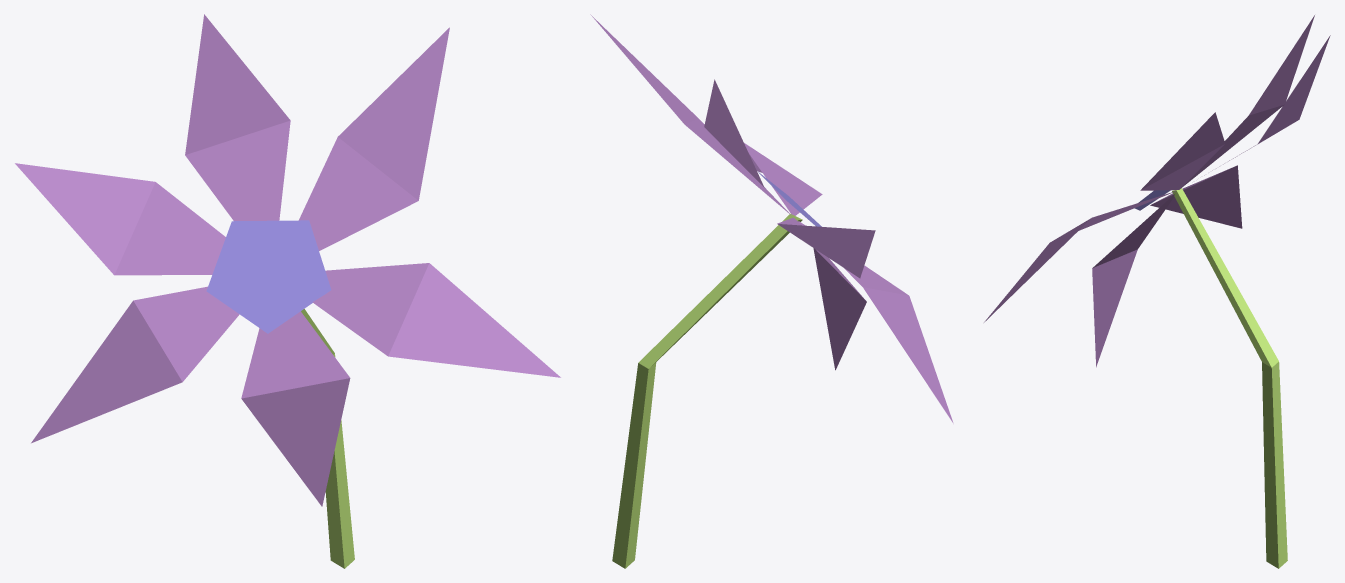
File: Flower_b_OneS_05.fbx
3 views of the same model, side by side, from view 1: azimuth 30°, elevation 25°; view 2: azimuth 150°, elevation 25°; view 3: azimuth 270°, elevation 25° (orthographic). The views are drawn at different scales.
Visible parts, largest first — view 1: Flower_b_OneS_05; view 2: Flower_b_OneS_05; view 3: Flower_b_OneS_05.
Boxes of the visible parts, x1,y1,x2,y2 form: Flower_b_OneS_05: (15,14,560,568); Flower_b_OneS_05: (590,14,953,568); Flower_b_OneS_05: (984,15,1330,568).
Bounding box in the file's own units: 29.91 × 39.75 × 25.19.
